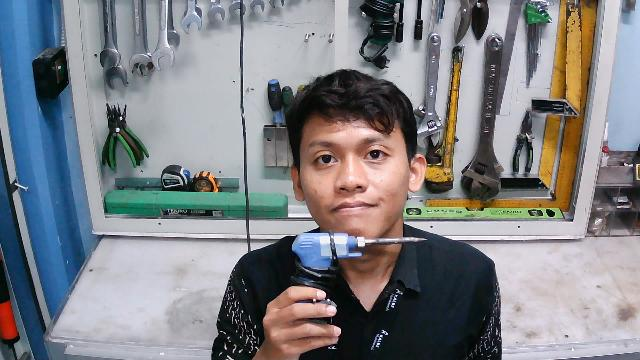solder_electrical: (291, 229, 428, 300)
